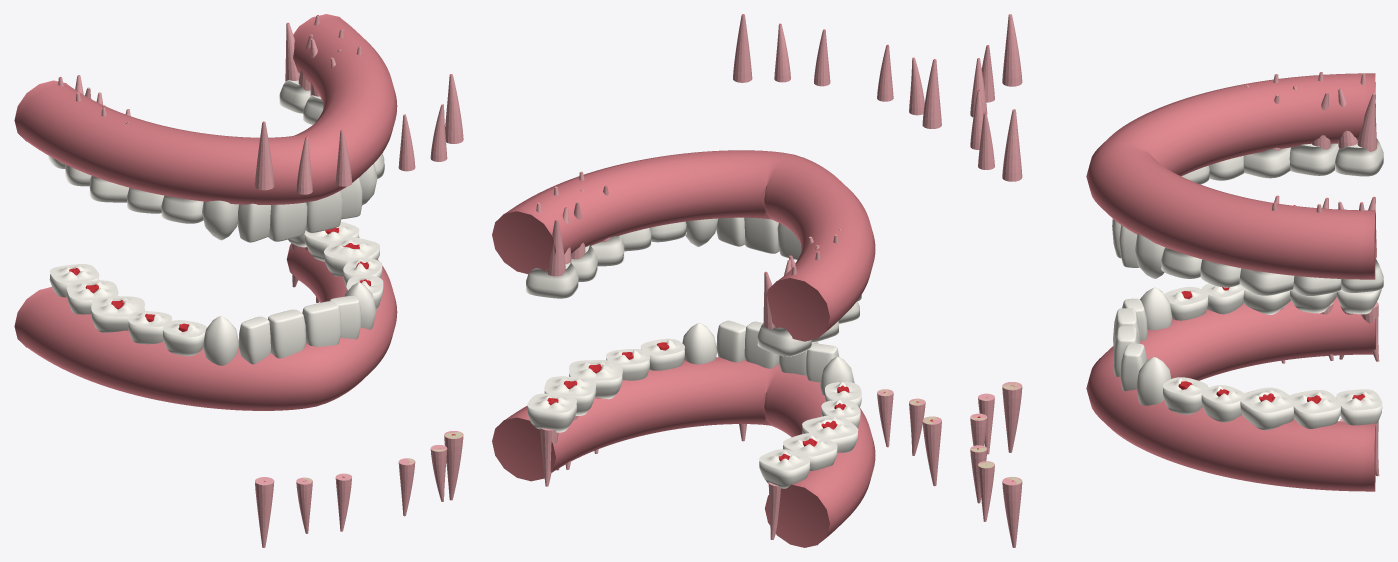
File: bookeasy-dental-chart.glb
3 renders of one model, left to right at view 1: azimuth 30°, elevation 25°; view 2: azimuth 150°, elevation 25°; view 3: azimuth 270°, elevation 25°, orthographic. The views are drawn at different scales.
Visible parts, largest first — view 1: Gingiva_Upper, Gingiva_Lower, Tooth_31, Tooth_41, Tooth_46, Tooth_43, Tooth_11, Tooth_42, Tooth_36, Tooth_44, Tooth_21, Tooth_47 (+27 smaller); view 2: Gingiva_Upper, Gingiva_Lower, Tooth_38, Tooth_48, Tooth_28, Tooth_36, Tooth_46, Tooth_47, Tooth_37, Tooth_33, Tooth_18, Tooth_21 (+27 smaller); view 3: Gingiva_Upper, Gingiva_Lower, Tooth_36, Tooth_37, Tooth_38, Tooth_17, Tooth_18, Tooth_34, Tooth_35, Tooth_33, Tooth_16, Tooth_26 (+27 smaller).
Part boxes in pixels (<box>): Gingiva_Upper: <box>14,14,397,204</box>; Gingiva_Lower: <box>14,244,397,410</box>; Tooth_31: <box>302,301,341,346</box>; Tooth_41: <box>268,309,306,358</box>; Tooth_46: <box>91,296,144,332</box>; Tooth_43: <box>203,316,238,365</box>; Tooth_11: <box>268,202,307,241</box>; Tooth_42: <box>238,316,270,364</box>; Tooth_36: <box>324,237,379,276</box>; Tooth_44: <box>162,320,206,356</box>; Tooth_21: <box>305,191,342,232</box>; Tooth_47: <box>66,280,118,314</box>; Gingiva_Upper: <box>492,150,875,341</box>; Gingiva_Lower: <box>492,357,875,547</box>; Tooth_38: <box>527,393,576,432</box>; Tooth_48: <box>759,449,810,488</box>; Tooth_28: <box>525,262,578,298</box>; Tooth_36: <box>569,360,622,399</box>; Tooth_46: <box>802,415,858,452</box>; Tooth_47: <box>783,433,837,470</box>; Tooth_37: <box>544,376,596,415</box>; Tooth_33: <box>682,323,717,364</box>; Tooth_18: <box>757,323,811,356</box>; Tooth_21: <box>744,217,779,253</box>; Gingiva_Upper: <box>1086,73,1375,279</box>; Gingiva_Lower: <box>1086,297,1375,491</box>; Tooth_36: <box>1240,387,1296,430</box>; Tooth_37: <box>1288,390,1340,428</box>; Tooth_38: <box>1336,389,1382,425</box>; Tooth_17: <box>1289,143,1339,176</box>; Tooth_18: <box>1335,138,1383,176</box>; Tooth_34: <box>1163,377,1208,414</box>; Tooth_35: <box>1201,385,1245,422</box>; Tooth_33: <box>1136,357,1171,405</box>; Tooth_16: <box>1243,147,1290,178</box>; Tooth_26: <box>1239,268,1294,295</box>.
Size of the model in its own units: 7.27 by 8.75 by 7.5.
